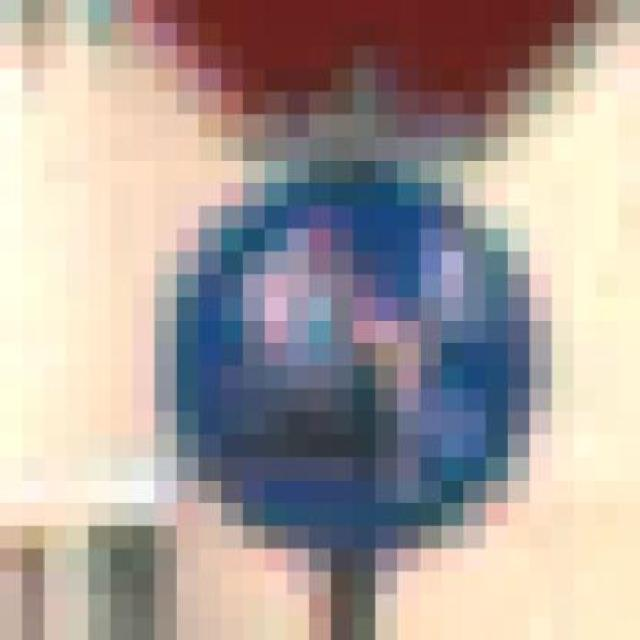Turn left ahead: (110, 137, 552, 549)
